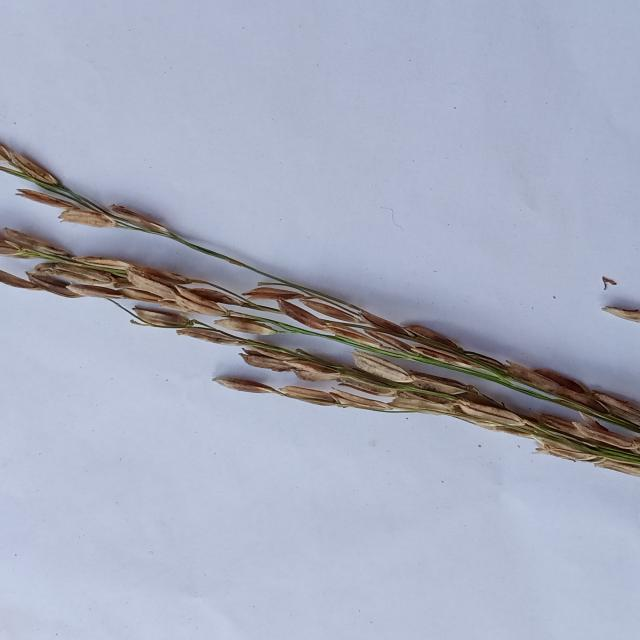Neck_Blast: (1, 221, 640, 483)
